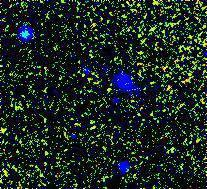star: (94, 74, 124, 104)
